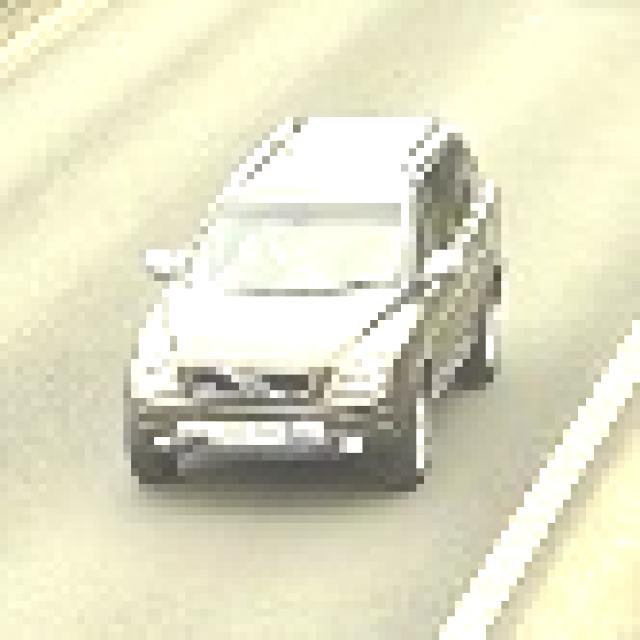SUV: (134, 124, 478, 482)
